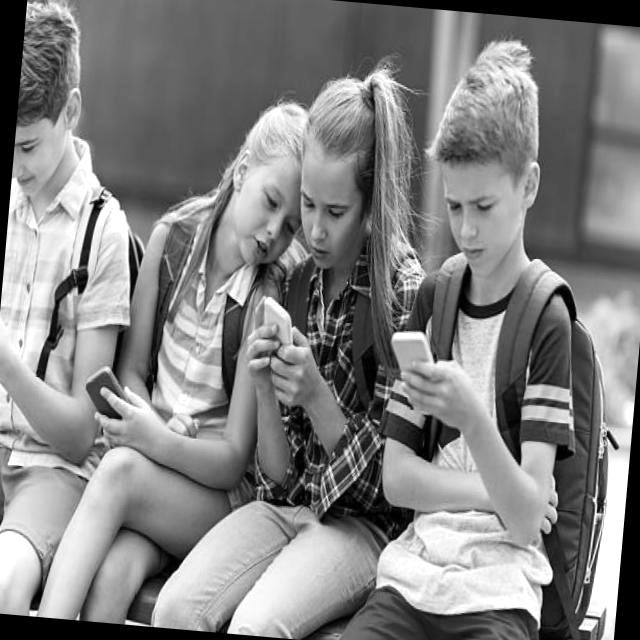phone: (384, 326, 440, 416), (82, 362, 134, 422), (260, 294, 296, 350)
